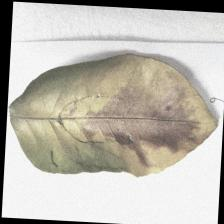black spot: (83, 92, 196, 147)
